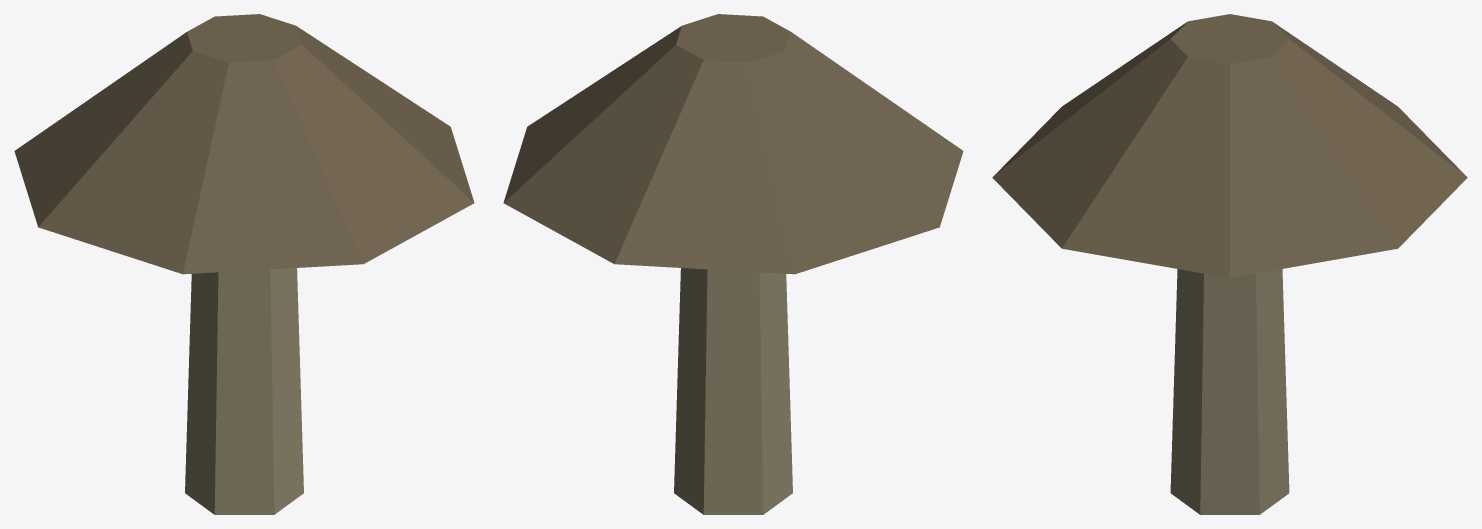
File: forest-mushroom-3.glb
3 renders of one model, left to right at view 1: azimuth 30°, elevation 25°; view 2: azimuth 150°, elevation 25°; view 3: azimuth 270°, elevation 25°, orthographic.
Visible parts, largest first — view 1: forest-mushroom-3; view 2: forest-mushroom-3; view 3: forest-mushroom-3.
Part boxes in pixels (left/top/right/bottom): forest-mushroom-3: left=14, top=14, right=474, bottom=514; forest-mushroom-3: left=503, top=14, right=963, bottom=514; forest-mushroom-3: left=992, top=14, right=1467, bottom=514.
Size of the model in its own units: 0.28 by 0.295 by 0.28.
